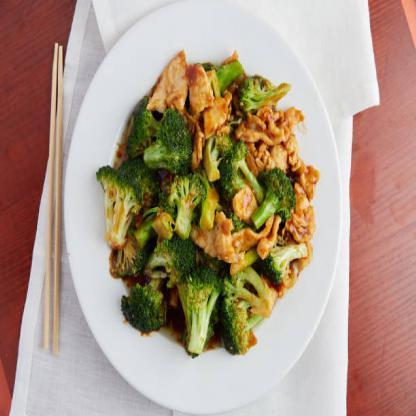broccoli: (97, 46, 323, 363)
